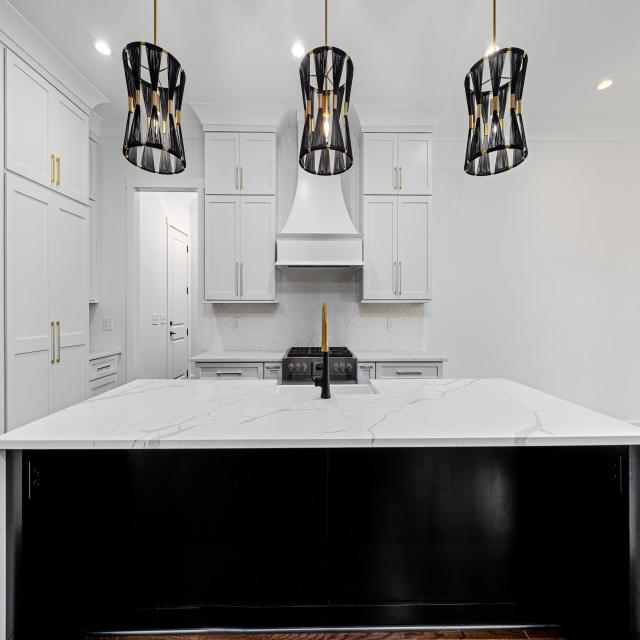Appliance_Oven: (282, 347, 324, 386), (328, 346, 358, 383)
Appliance_Sink: (319, 303, 330, 399), (275, 385, 322, 398), (331, 384, 374, 397)
Cabinet_Shaker: (3, 65, 120, 432), (203, 132, 277, 303), (362, 132, 432, 302), (358, 362, 443, 384), (190, 361, 281, 380)
Countertop_Marble: (0, 378, 640, 451), (186, 351, 287, 363), (353, 351, 444, 363), (87, 351, 122, 358)
